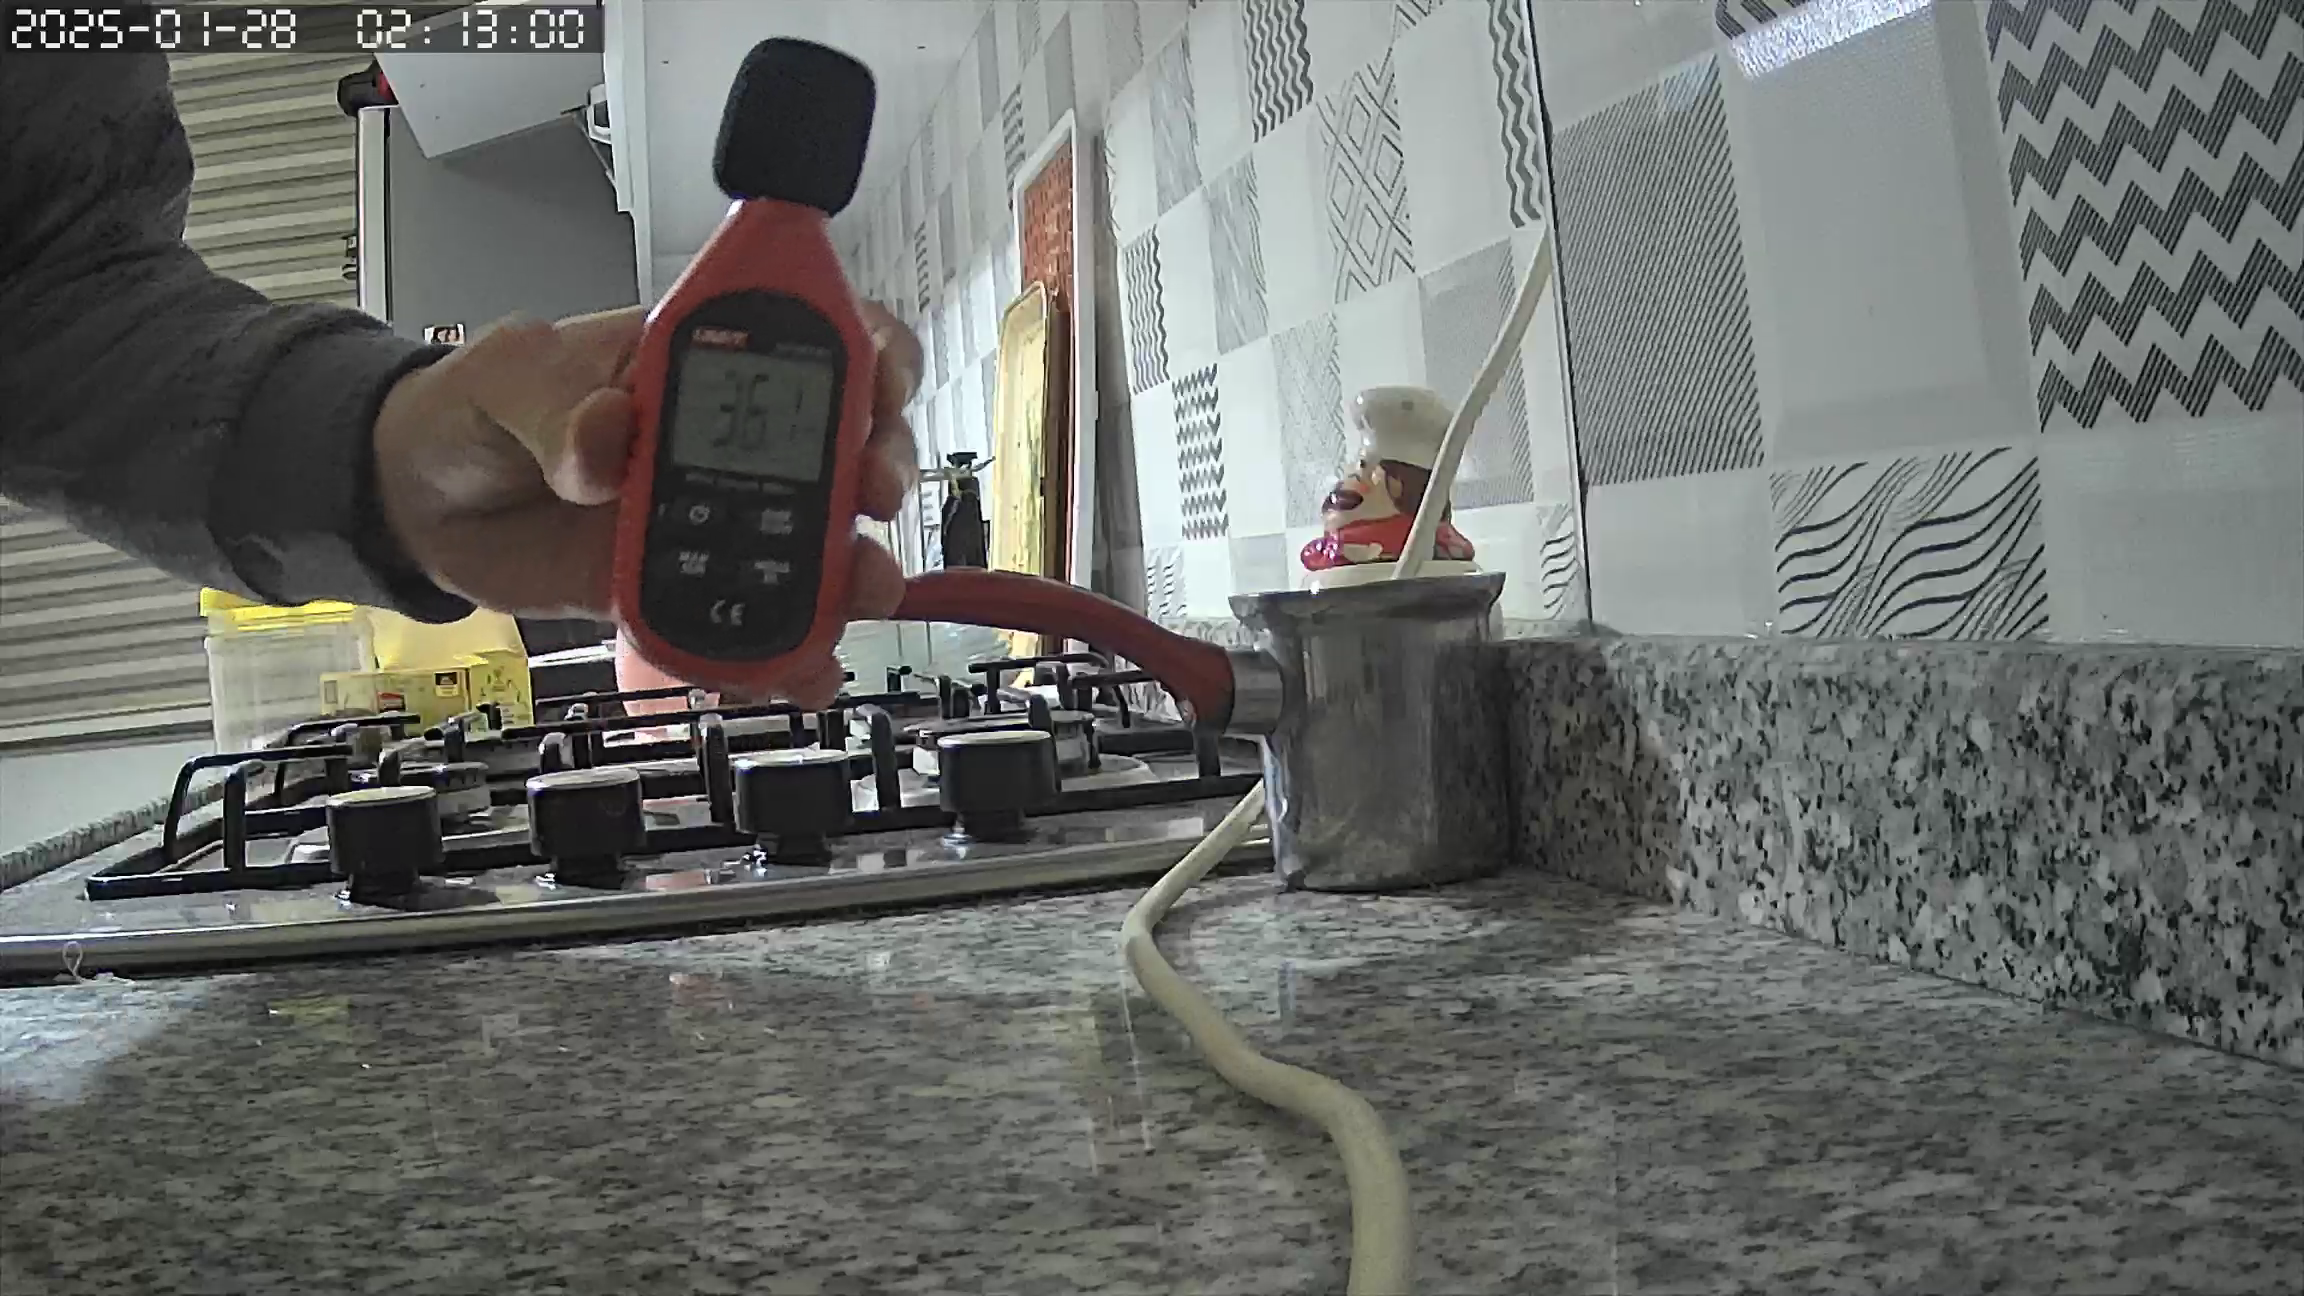screen: (671, 345, 832, 484)
